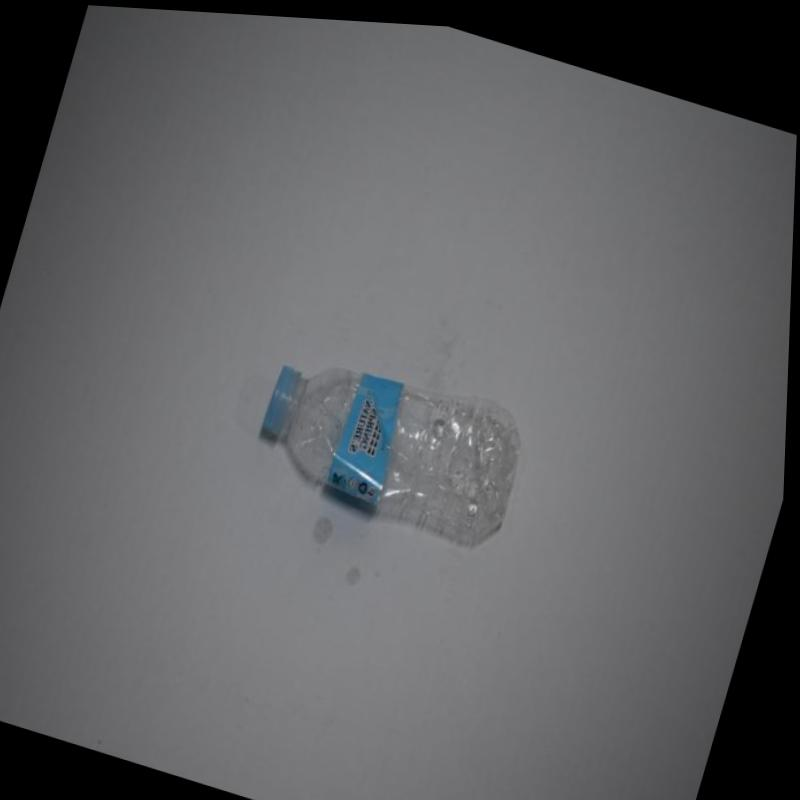botella: (249, 335, 537, 546)
